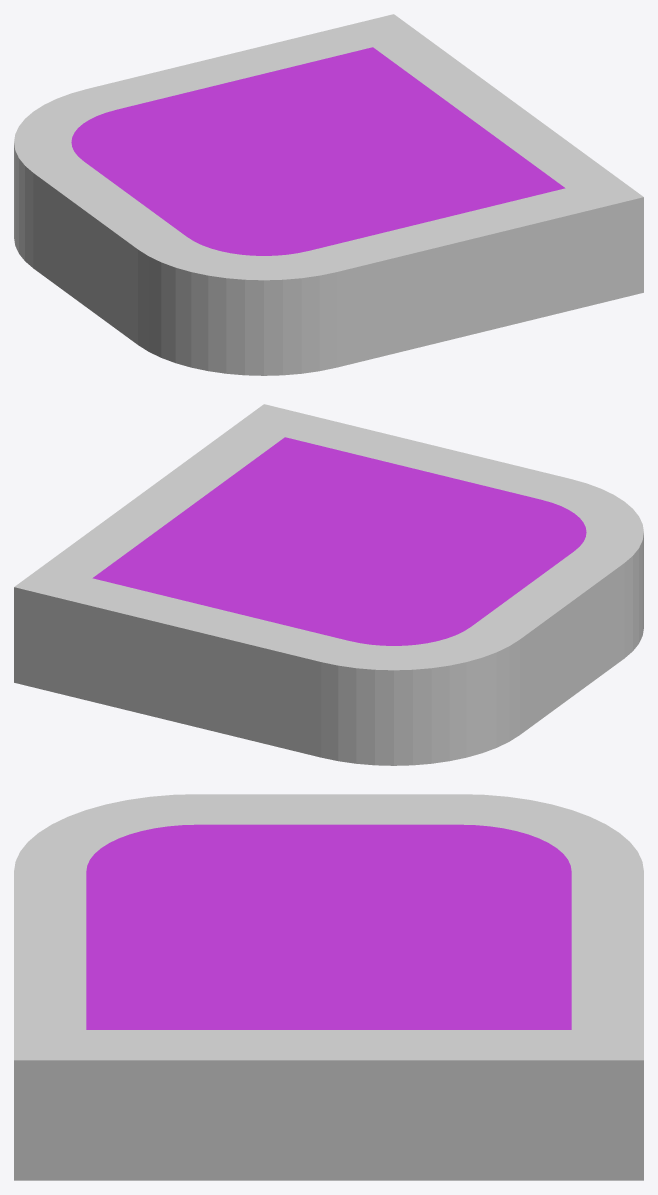
Rendered from ground_side_small.fbx.
The picture shows the model from 3 angles, top to bottom: view 1: azimuth 30°, elevation 25°; view 2: azimuth 150°, elevation 25°; view 3: azimuth 270°, elevation 25°; orthographic projection. The views are drawn at different scales.
Parts seen in each view (by area): view 1: Cube; view 2: Cube; view 3: Cube.
Boxes of the visible parts, left/top/right/bottom form: Cube: left=14, top=14, right=643, bottom=375; Cube: left=14, top=404, right=643, bottom=765; Cube: left=14, top=794, right=643, bottom=1180.
Size of the model in its own units: 200 by 42.18 by 200.
